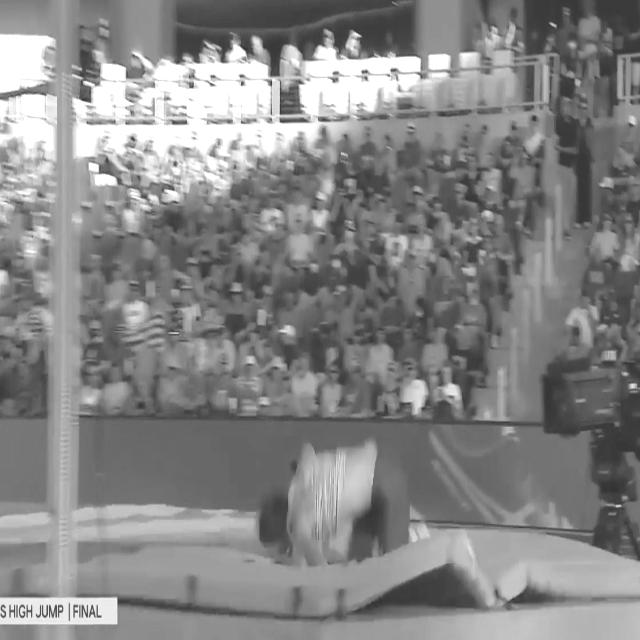land: (246, 439, 411, 566)
